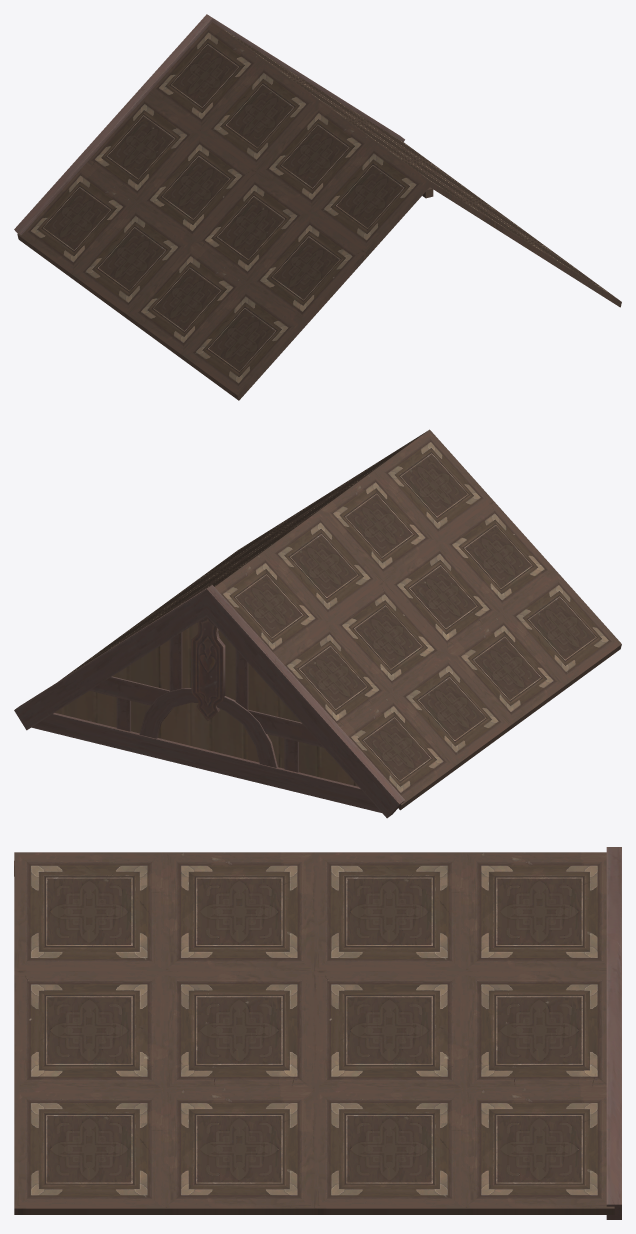
The model's file is Homeworld_Interior_Ly_Room_N_Ceiling_01_Vo.fbx.
3 views of the same model, one above another, from view 1: azimuth 30°, elevation 25°; view 2: azimuth 150°, elevation 25°; view 3: azimuth 270°, elevation 25° (orthographic). The views are drawn at different scales.
Parts seen in each view (by area): view 1: Homeworld_Interior_Dq_Room_Ceiling_02_Vo (×2), Homeworld_Interior_Ly_Room_Ceiling_01_Vo; view 2: Homeworld_Interior_Dq_Room_Ceiling_02_Vo (×2), Homeworld_Interior_Ly_Room_Ceiling_01_Vo; view 3: Homeworld_Interior_Dq_Room_Ceiling_02_Vo (×2), Homeworld_Interior_Ly_Room_Ceiling_01_Vo.
Boxes of the visible parts, left/top/right/bottom form: Homeworld_Interior_Dq_Room_Ceiling_02_Vo (×2): left=17, top=22, right=621, bottom=400; Homeworld_Interior_Ly_Room_Ceiling_01_Vo: left=14, top=14, right=404, bottom=235; Homeworld_Interior_Dq_Room_Ceiling_02_Vo (×2): left=58, top=429, right=621, bottom=810; Homeworld_Interior_Ly_Room_Ceiling_01_Vo: left=14, top=585, right=404, bottom=818; Homeworld_Interior_Dq_Room_Ceiling_02_Vo (×2): left=14, top=852, right=614, bottom=1214; Homeworld_Interior_Ly_Room_Ceiling_01_Vo: left=606, top=847, right=621, bottom=1219.
Size of the model in its own units: 11.12 by 5.11 by 11.14.
